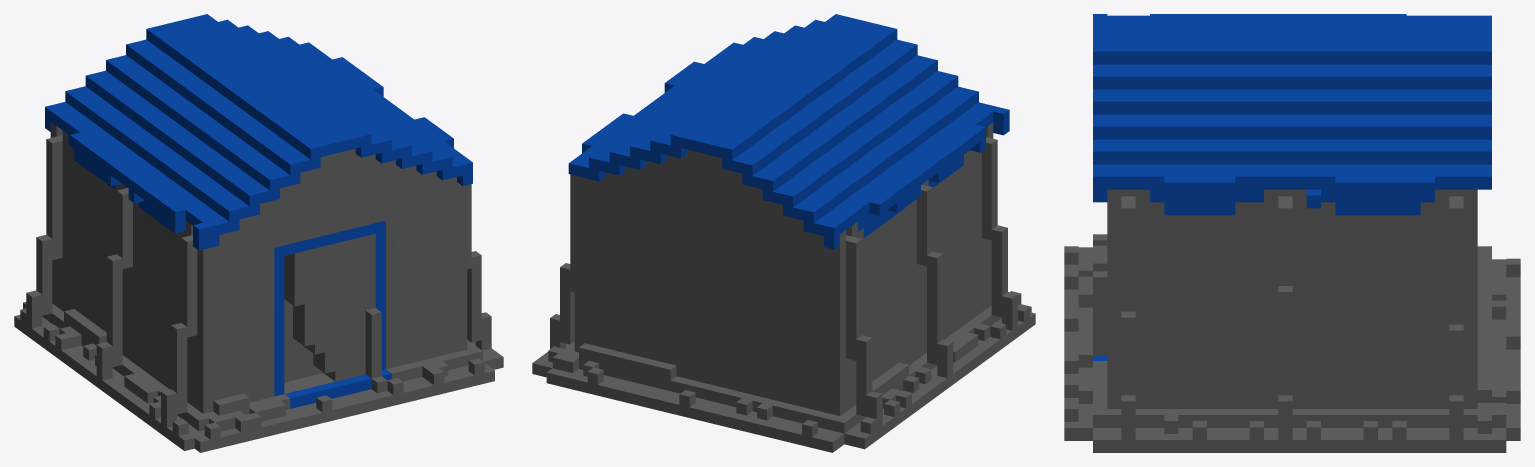
Rendered from bld_house7.obj.
3 views of the same model, side by side, from view 1: azimuth 30°, elevation 25°; view 2: azimuth 150°, elevation 25°; view 3: azimuth 270°, elevation 25° (orthographic). The views are drawn at different scales.
Size of the model in its own units: 32 by 25 by 32.
